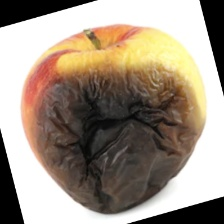apple: (38, 28, 203, 204)
